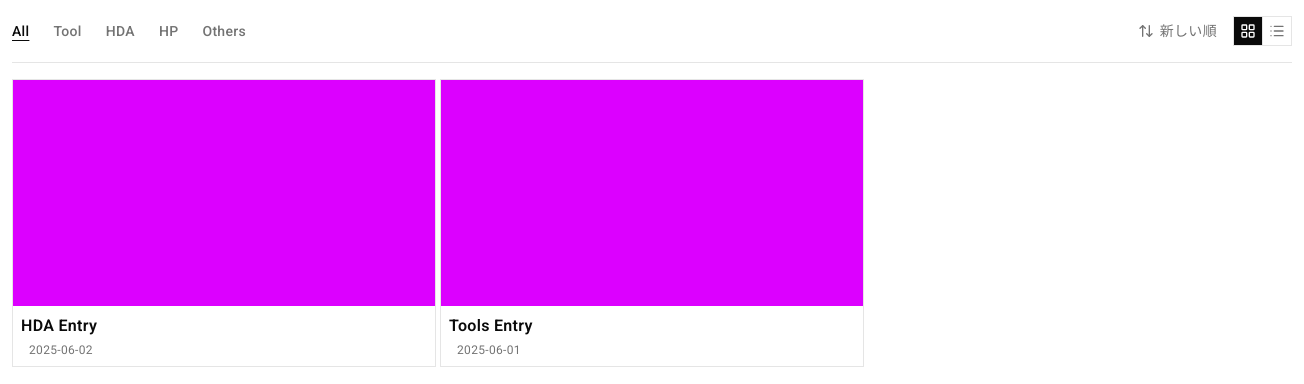
Scenario: CategoryFilter › shows only the items of the selected category after switching tabs
Click the button "HDA". click: (120, 31)
box: [106,21,135,41]
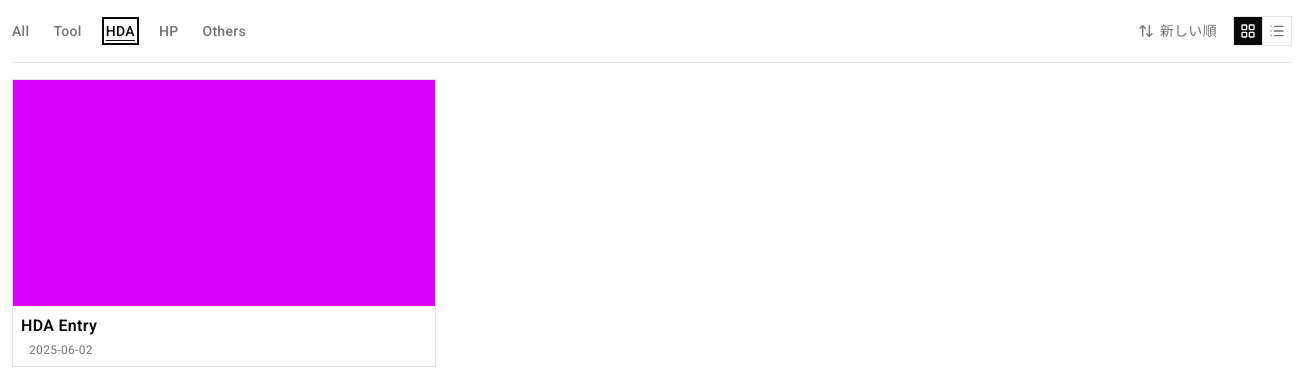
expect the heading "HDA Entry" is shown: met, box [21,316,97,335]
expect the link "Tools Entry" is gone: met
